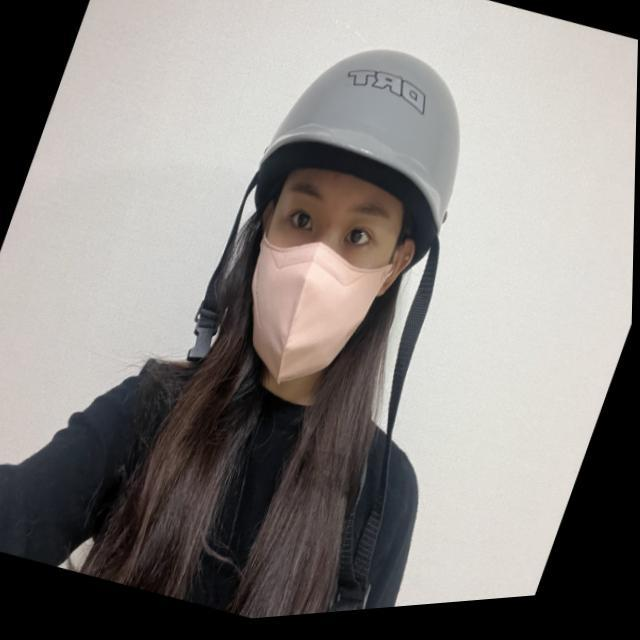Helmet: (212, 32, 472, 397)
